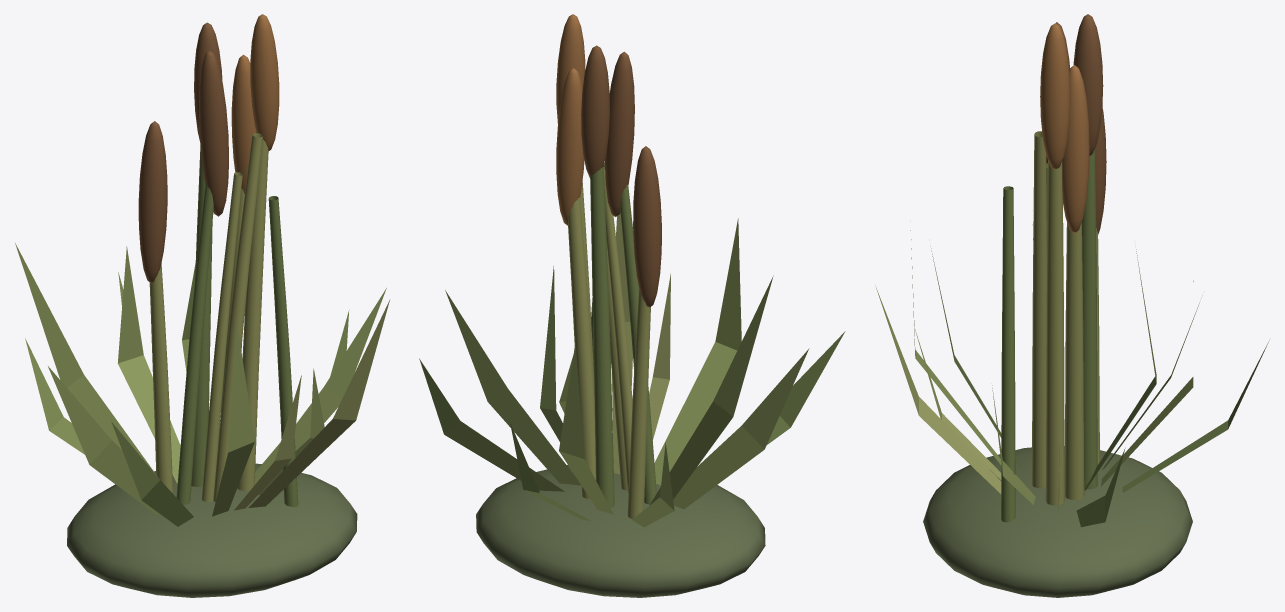
Rendered from juncos.glb.
3 views of the same model, side by side, from view 1: azimuth 30°, elevation 25°; view 2: azimuth 150°, elevation 25°; view 3: azimuth 270°, elevation 25° (orthographic). The views are drawn at different scales.
Parts seen in each view (by area): view 1: Pequena touceira de turfa, Brejo | Junco | verde úmido, Brejo | Haste de junco | oliva, Brejo | Haste de junco | verde escuro, Brejo | Espiga | marrom profundo, Brejo | Espiga | castanho quente, Brejo | Junco | verde jovem, Brejo | Junco | verde oliva; view 2: Pequena touceira de turfa, Brejo | Junco | verde úmido, Brejo | Haste de junco | oliva, Brejo | Espiga | marrom profundo, Brejo | Haste de junco | verde escuro, Brejo | Junco | verde oliva, Brejo | Espiga | castanho quente, Brejo | Junco | verde jovem; view 3: Pequena touceira de turfa, Brejo | Haste de junco | oliva, Brejo | Haste de junco | verde escuro, Brejo | Espiga | castanho quente, Brejo | Espiga | marrom profundo, Brejo | Junco | verde oliva, Brejo | Junco | verde úmido, Brejo | Junco | verde jovem.
Part boxes in pixels (x1=…): Pequena touceira de turfa: x1=67, y1=463, x2=357, y2=597; Brejo | Junco | verde úmido: x1=15, y1=243, x2=386, y2=516; Brejo | Haste de junco | oliva: x1=149, y1=131, x2=268, y2=501; Brejo | Haste de junco | verde escuro: x1=176, y1=145, x2=298, y2=506; Brejo | Espiga | marrom profundo: x1=138, y1=22, x2=228, y2=282; Brejo | Espiga | castanho quente: x1=231, y1=14, x2=279, y2=193; Brejo | Junco | verde jovem: x1=234, y1=299, x2=390, y2=510; Brejo | Junco | verde oliva: x1=111, y1=263, x2=349, y2=526; Pequena touceira de turfa: x1=476, y1=465, x2=765, y2=597; Brejo | Junco | verde úmido: x1=445, y1=218, x2=809, y2=527; Brejo | Haste de junco | oliva: x1=568, y1=167, x2=650, y2=518; Brejo | Espiga | marrom profundo: x1=581, y1=45, x2=661, y2=307; Brejo | Haste de junco | verde escuro: x1=590, y1=162, x2=656, y2=508; Brejo | Junco | verde oliva: x1=419, y1=266, x2=845, y2=521; Brejo | Espiga | castanho quente: x1=556, y1=14, x2=585, y2=225; Brejo | Junco | verde jovem: x1=612, y1=213, x2=670, y2=474; Pequena touceira de turfa: x1=923, y1=446, x2=1192, y2=597; Brejo | Haste de junco | oliva: x1=1032, y1=131, x2=1099, y2=505; Brejo | Haste de junco | verde escuro: x1=1001, y1=148, x2=1097, y2=522; Brejo | Espiga | castanho quente: x1=1040, y1=23, x2=1089, y2=233; Brejo | Espiga | marrom profundo: x1=1046, y1=14, x2=1106, y2=234; Brejo | Junco | verde oliva: x1=931, y1=248, x2=1269, y2=527; Brejo | Junco | verde úmido: x1=910, y1=224, x2=1201, y2=510; Brejo | Junco | verde jovem: x1=875, y1=286, x2=1001, y2=493.
Size of the model in its own units: 0.7511 by 1.1 by 0.705.
